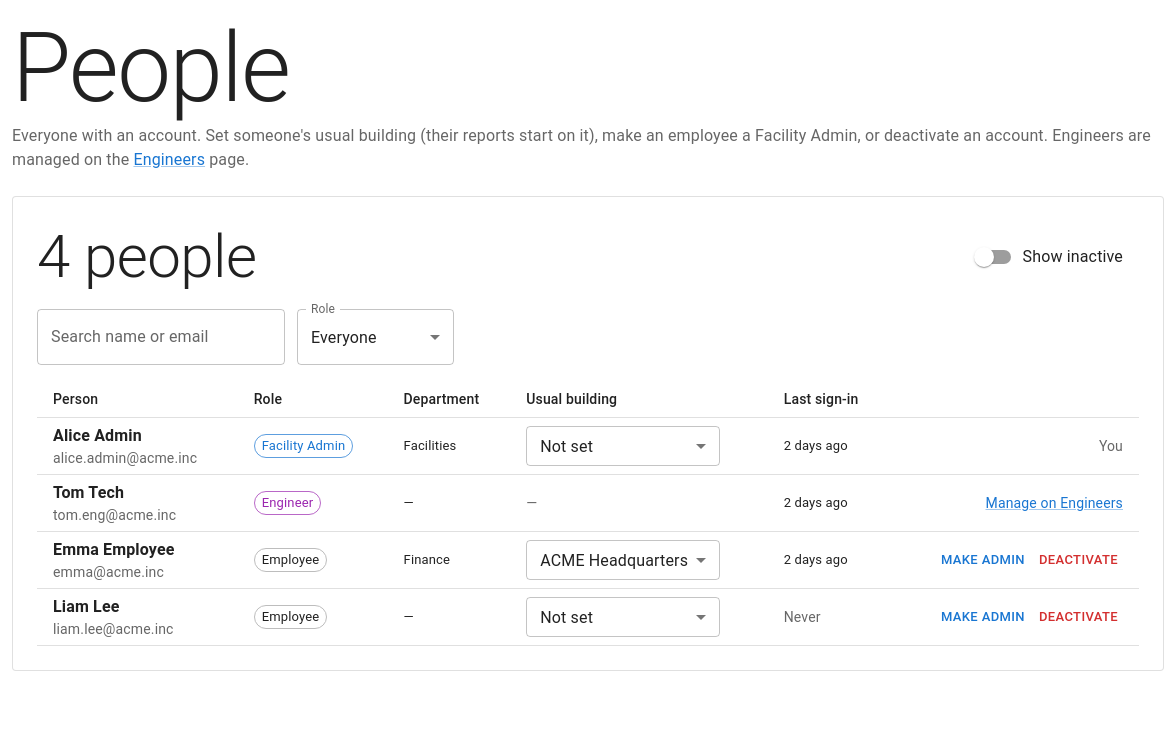
Test case: People admin page › sets someone's usual building, which saves straight away
Expected: the dropdown named "Emma Employee's usual building" shows "ACME Headquarters", x1=526 y1=540 x2=720 y2=580
Select "Innovation Hub" in the dropdown named "Liam Lee's usual building". click: (623, 617)
box: x1=526 y1=597 x2=720 y2=637
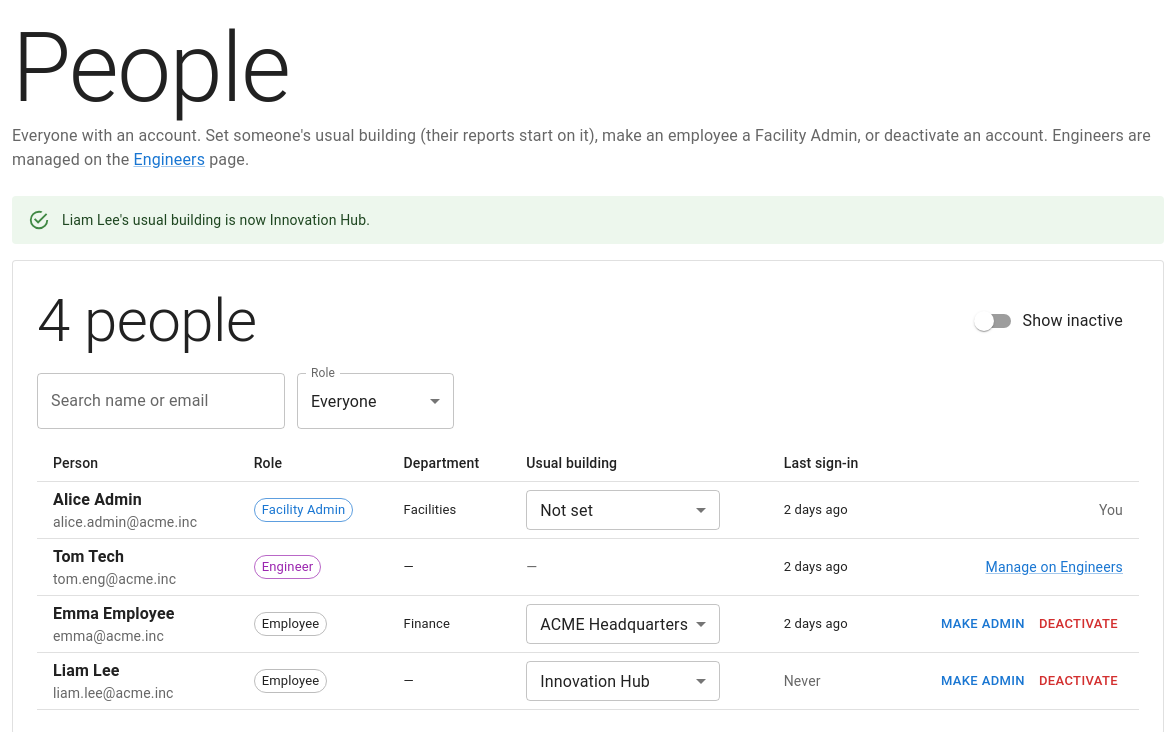
Expected: the message reads "Liam Lee's usual building is now Innovation Hub.", x1=62 y1=212 x2=370 y2=228
Select "Not set" in the dropdown named "Liam Lee's usual building". click: (623, 681)
box: x1=526 y1=661 x2=720 y2=701
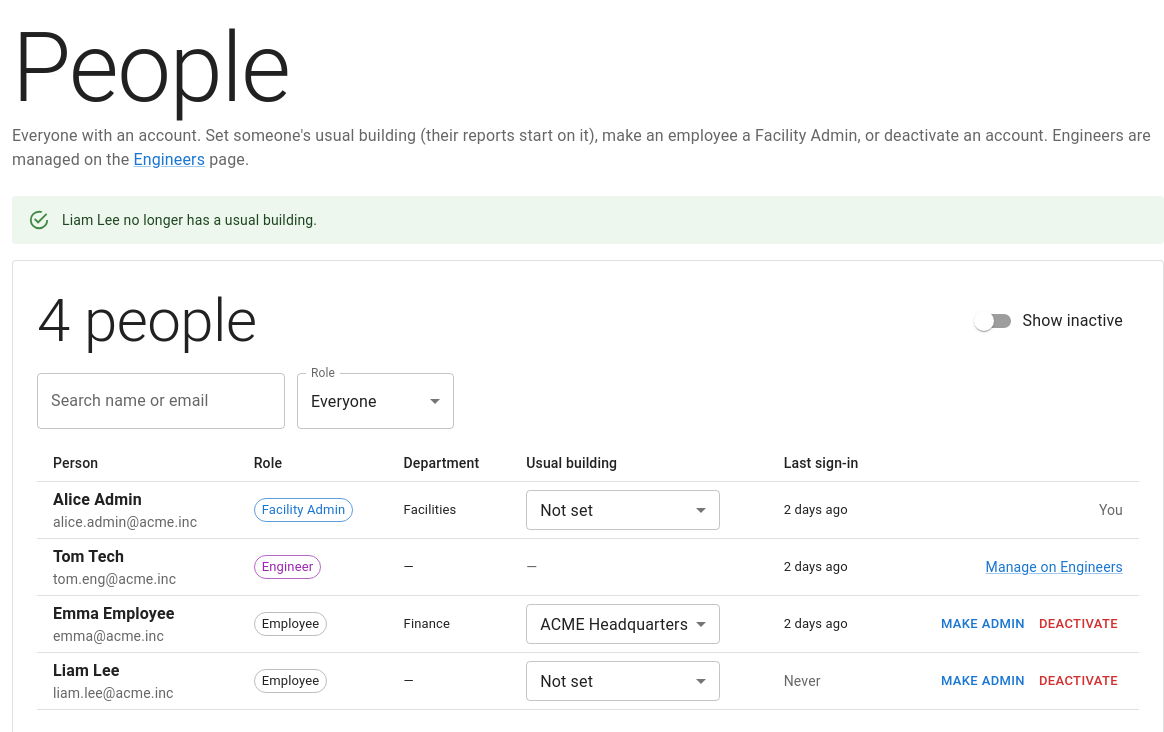
Expected: the message reads "Liam Lee no longer has a usual building.", x1=62 y1=212 x2=317 y2=228
